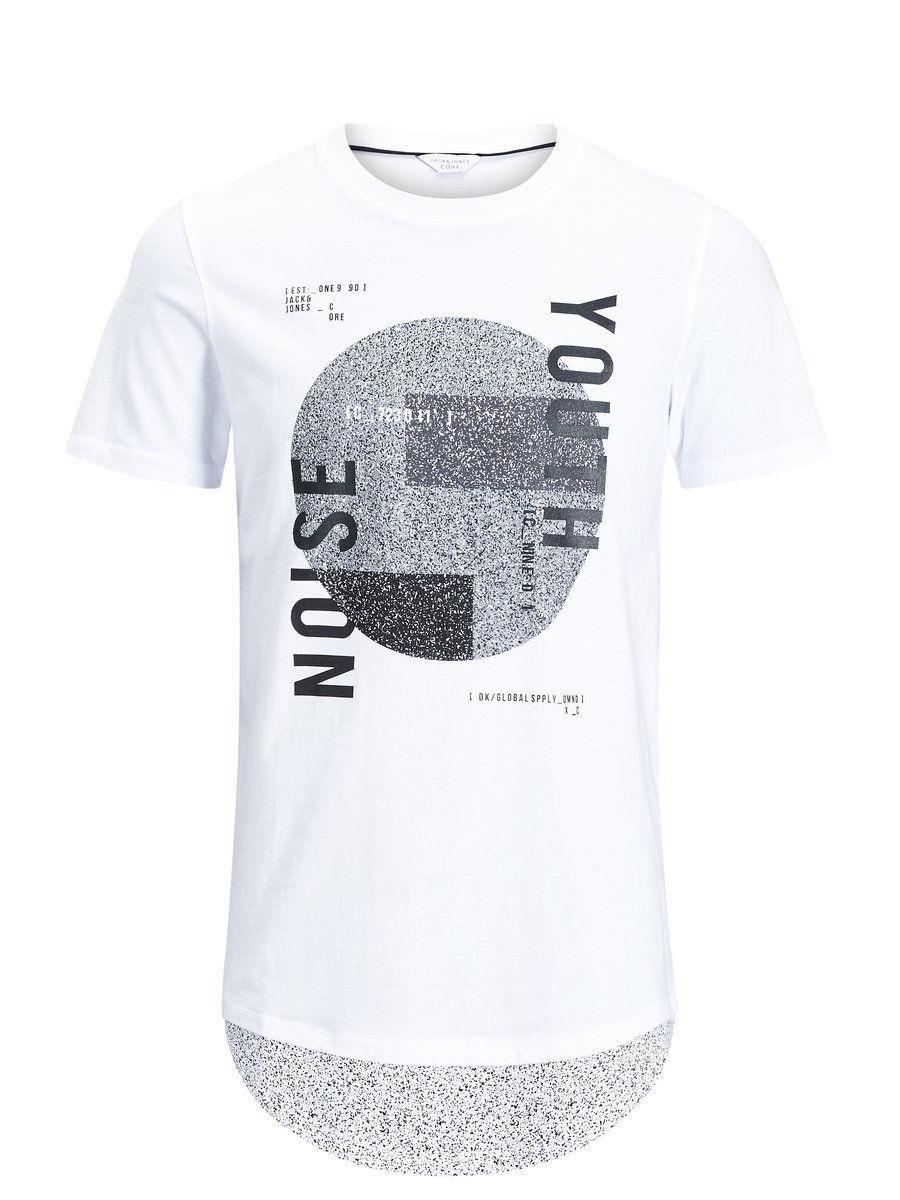teeshirt: (43, 113, 849, 1180)
